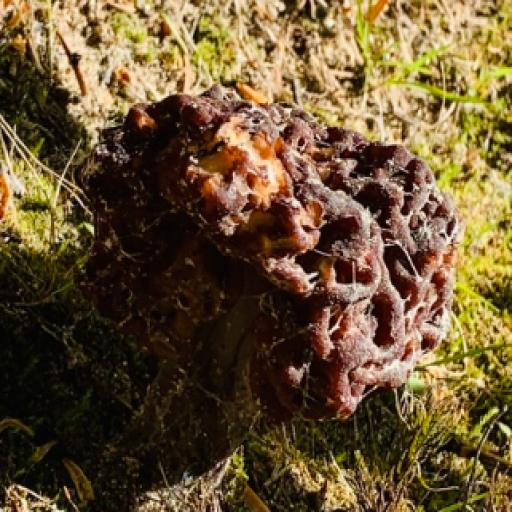False Morel: (39, 45, 500, 463)
